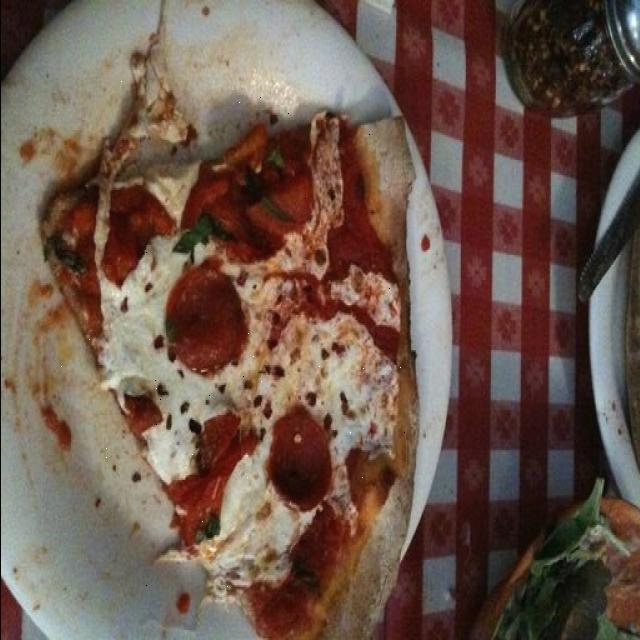pepperoni: (164, 253, 246, 379), (195, 161, 306, 247), (268, 397, 332, 509)
pizza: (42, 77, 418, 638)
